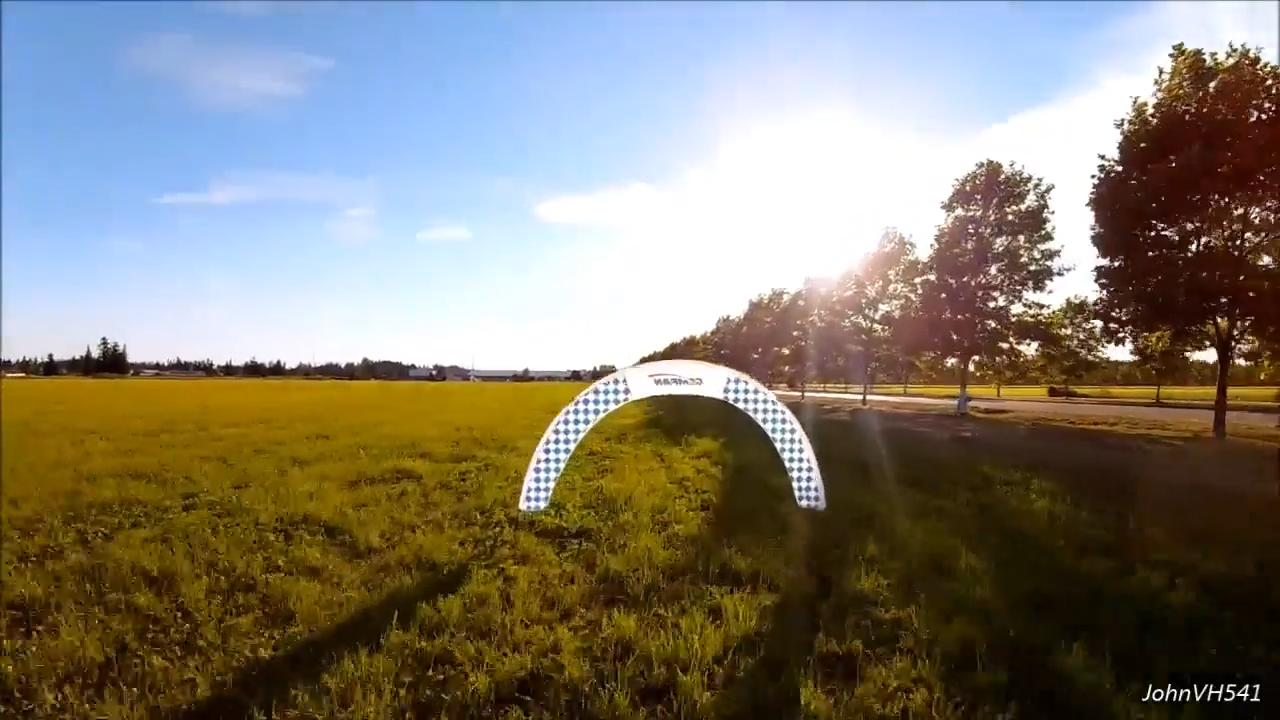gate: (518, 358, 822, 513)
